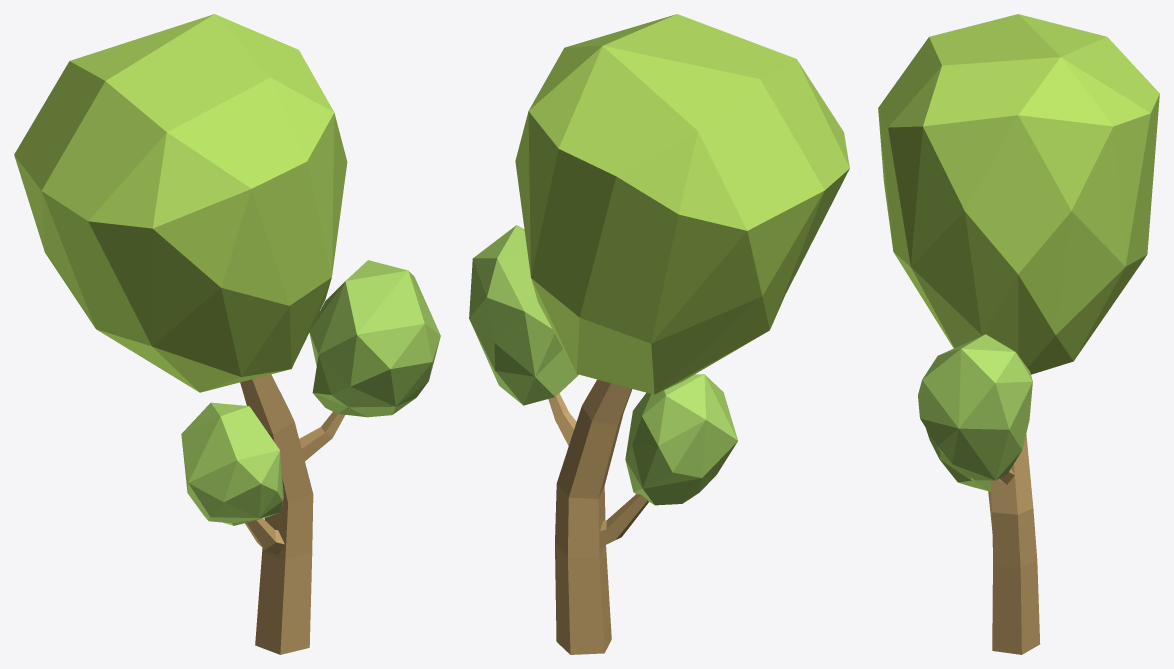
Rendered from Simple_Tree_m_BT_05.fbx.
3 renders of one model, left to right at view 1: azimuth 30°, elevation 25°; view 2: azimuth 150°, elevation 25°; view 3: azimuth 270°, elevation 25°, orthographic. The views are drawn at different scales.
Parts seen in each view (by area): view 1: Simple_Tree_m_BT_05; view 2: Simple_Tree_m_BT_05; view 3: Simple_Tree_m_BT_05.
Boxes of the visible parts, x1,y1,x2,y2 form: Simple_Tree_m_BT_05: (14, 14, 440, 654); Simple_Tree_m_BT_05: (469, 14, 849, 654); Simple_Tree_m_BT_05: (878, 14, 1159, 654).
Size of the model in its own units: 440 by 711 by 320.
